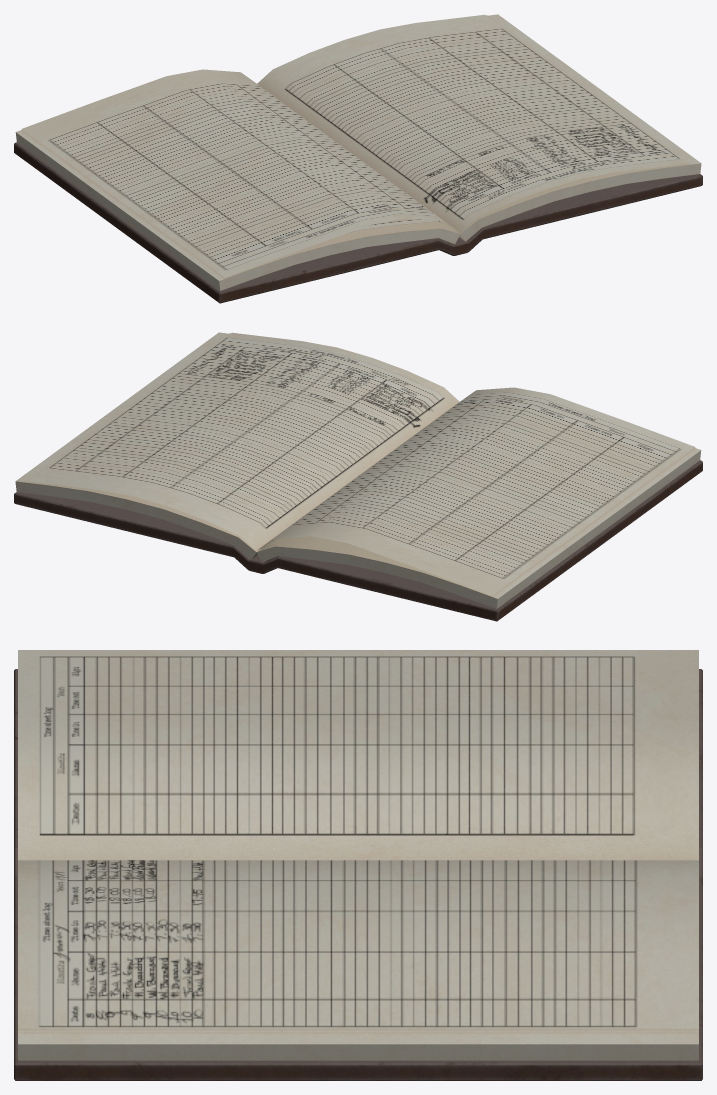
The model's file is logbook.glb.
3 renders of one model, top to bottom at view 1: azimuth 30°, elevation 25°; view 2: azimuth 150°, elevation 25°; view 3: azimuth 270°, elevation 25°, orthographic. The views are drawn at different scales.
Parts seen in each view (by area): view 1: KeyClue_Logbook; view 2: KeyClue_Logbook; view 3: KeyClue_Logbook.
Boxes of the visible parts, box(x1,y1,x2,y2) form: KeyClue_Logbook: box(14, 14, 702, 303); KeyClue_Logbook: box(14, 332, 702, 621); KeyClue_Logbook: box(14, 650, 702, 1080).
Bounding box in the file's own units: 14 × 1.41 × 10.31.
Materials: 2 (2 with a texture image).
